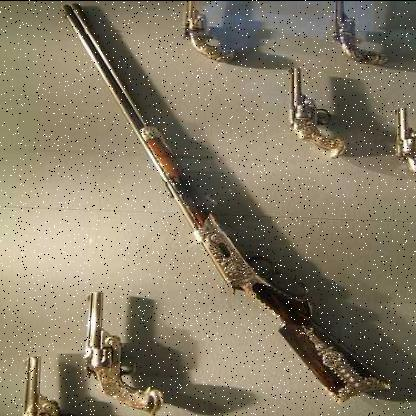rifle: (39, 1, 415, 394)
